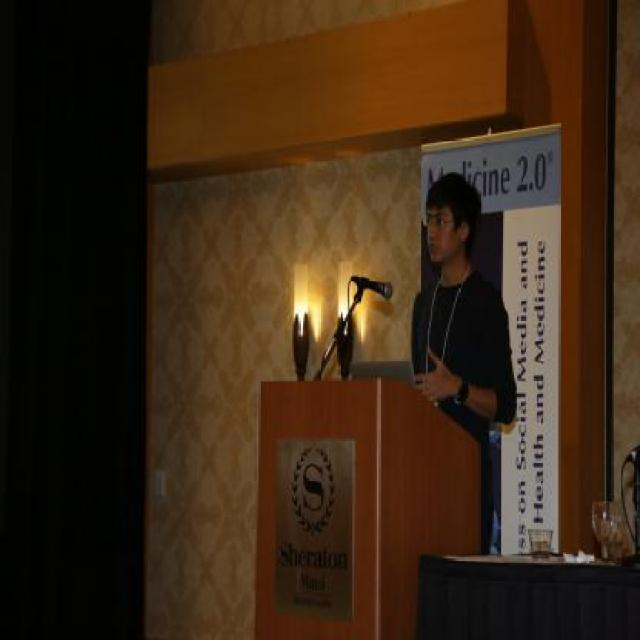Person: (410, 173, 516, 512)
